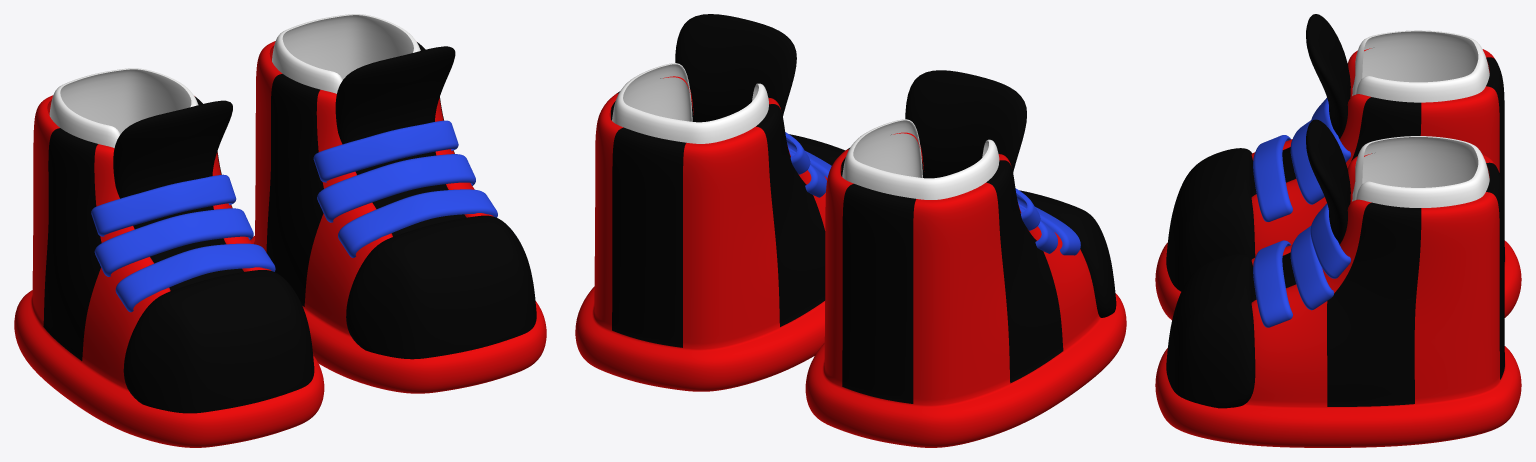
Rendered from boots.glb.
The picture shows the model from 3 angles, left to right: view 1: azimuth 30°, elevation 25°; view 2: azimuth 150°, elevation 25°; view 3: azimuth 270°, elevation 25°; orthographic projection. The views are drawn at different scales.
Visible parts, largest first — view 1: botin, botin.001, suela delante.001, suela delante, lengueta, lengueta.001, calcetines, calcetines.001, cordon1, cordon1.001, cordon2, cordon2.001 (+2 smaller); view 2: botin, botin.001, lengueta, lengueta.001, calcetines, calcetines.001, suela delante, cordon2, suela delante.001, cordon3, cordon3.001; view 3: botin.001, botin, suela delante.001, suela delante, calcetines, calcetines.001, lengueta.001, lengueta, cordon2.001, cordon2, cordon1.001, cordon3.001 (+2 smaller).
Boxes of the visible parts, x1,y1,x2,y2 form: botin: (14, 95, 324, 447); botin.001: (250, 41, 546, 393); suela delante.001: (346, 215, 536, 359); suela delante: (123, 270, 314, 413); lengueta: (113, 100, 243, 290); lengueta.001: (335, 46, 466, 236); calcetines: (49, 68, 198, 147); calcetines.001: (272, 14, 420, 93); cordon1: (94, 208, 253, 276); cordon1.001: (317, 154, 475, 222); cordon2: (115, 243, 275, 312); cordon2.001: (338, 189, 497, 257); botin: (805, 132, 1126, 447); botin.001: (575, 76, 827, 391); lengueta: (905, 70, 1026, 178); lengueta.001: (675, 14, 796, 122); calcetines: (842, 119, 999, 199); calcetines.001: (612, 63, 768, 143); suela delante: (1019, 190, 1116, 317); cordon2: (1018, 203, 1080, 255); suela delante.001: (789, 134, 845, 165); cordon3: (1015, 188, 1040, 230); cordon3.001: (785, 132, 810, 174); botin.001: (1155, 153, 1521, 447); botin: (1155, 48, 1521, 319); suela delante.001: (1166, 253, 1255, 408); suela delante: (1166, 148, 1255, 291); calcetines: (1352, 30, 1489, 102); calcetines.001: (1352, 136, 1489, 207); lengueta.001: (1251, 119, 1350, 301); lengueta: (1251, 14, 1350, 195); cordon2.001: (1253, 240, 1292, 327); cordon2: (1253, 135, 1292, 221); cordon1.001: (1290, 226, 1333, 310); cordon3.001: (1310, 203, 1350, 278).
Bounding box in the file's own units: 4.82 × 2.89 × 3.57.
